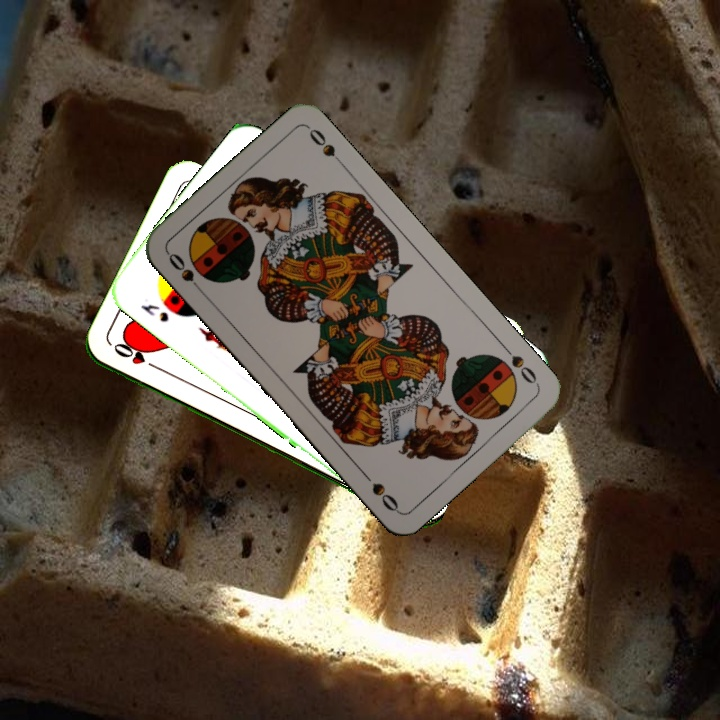HO: (109, 339, 163, 373)
SK: (136, 299, 172, 325)
SO: (498, 340, 542, 388), (164, 249, 207, 298)
